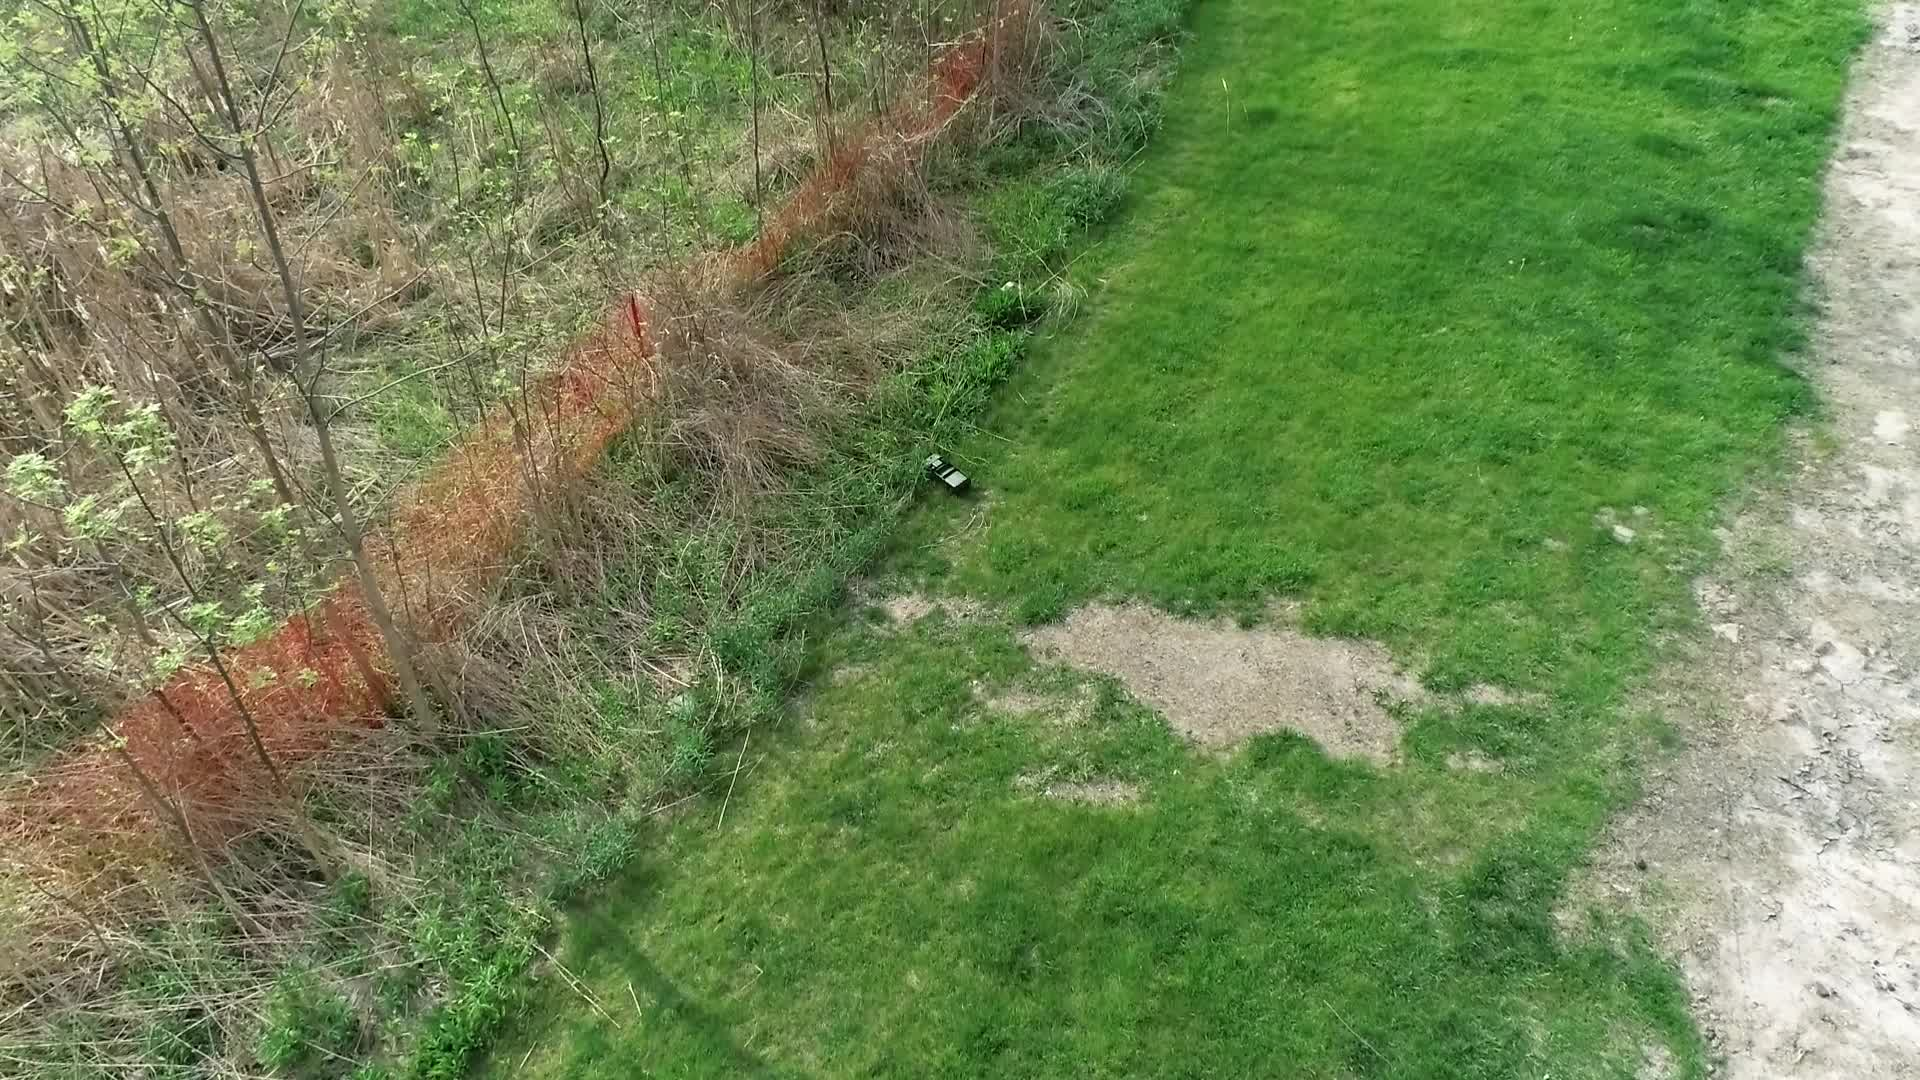transporter9: (922, 454, 971, 500)
